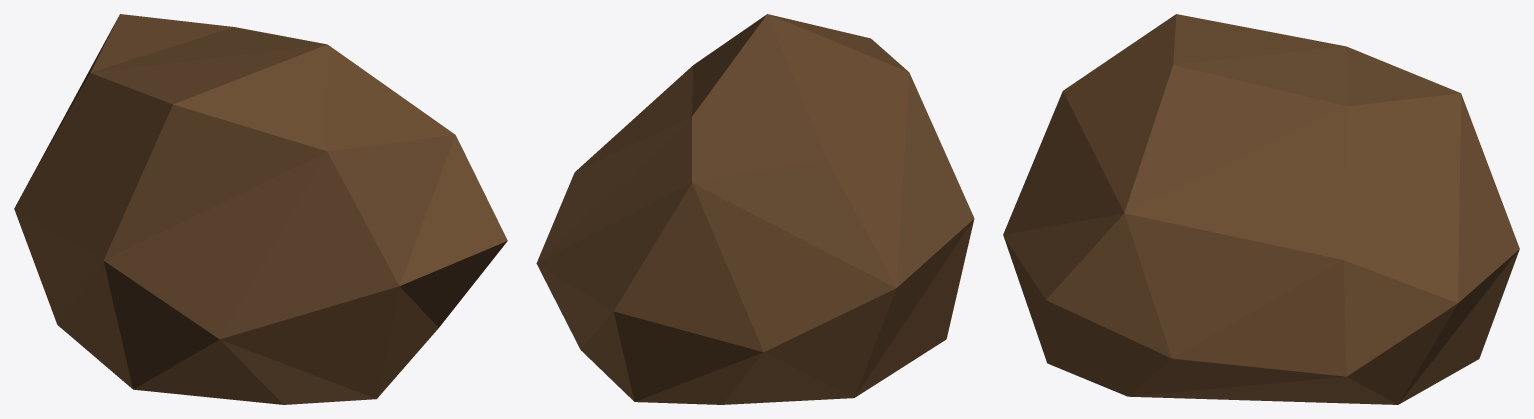
The model's file is stone-round_brown.glb.
The picture shows the model from 3 angles, left to right: view 1: azimuth 30°, elevation 25°; view 2: azimuth 150°, elevation 25°; view 3: azimuth 270°, elevation 25°; orthographic projection. The views are drawn at different scales.
Parts seen in each view (by area): view 1: stone-round_brown; view 2: stone-round_brown; view 3: stone-round_brown.
Boxes of the visible parts, <box> form: stone-round_brown: <box>14,14,507,404</box>; stone-round_brown: <box>536,14,974,404</box>; stone-round_brown: <box>1003,14,1519,404</box>.
Bounding box in the file's own units: 2.58 × 2.27 × 3.03.
